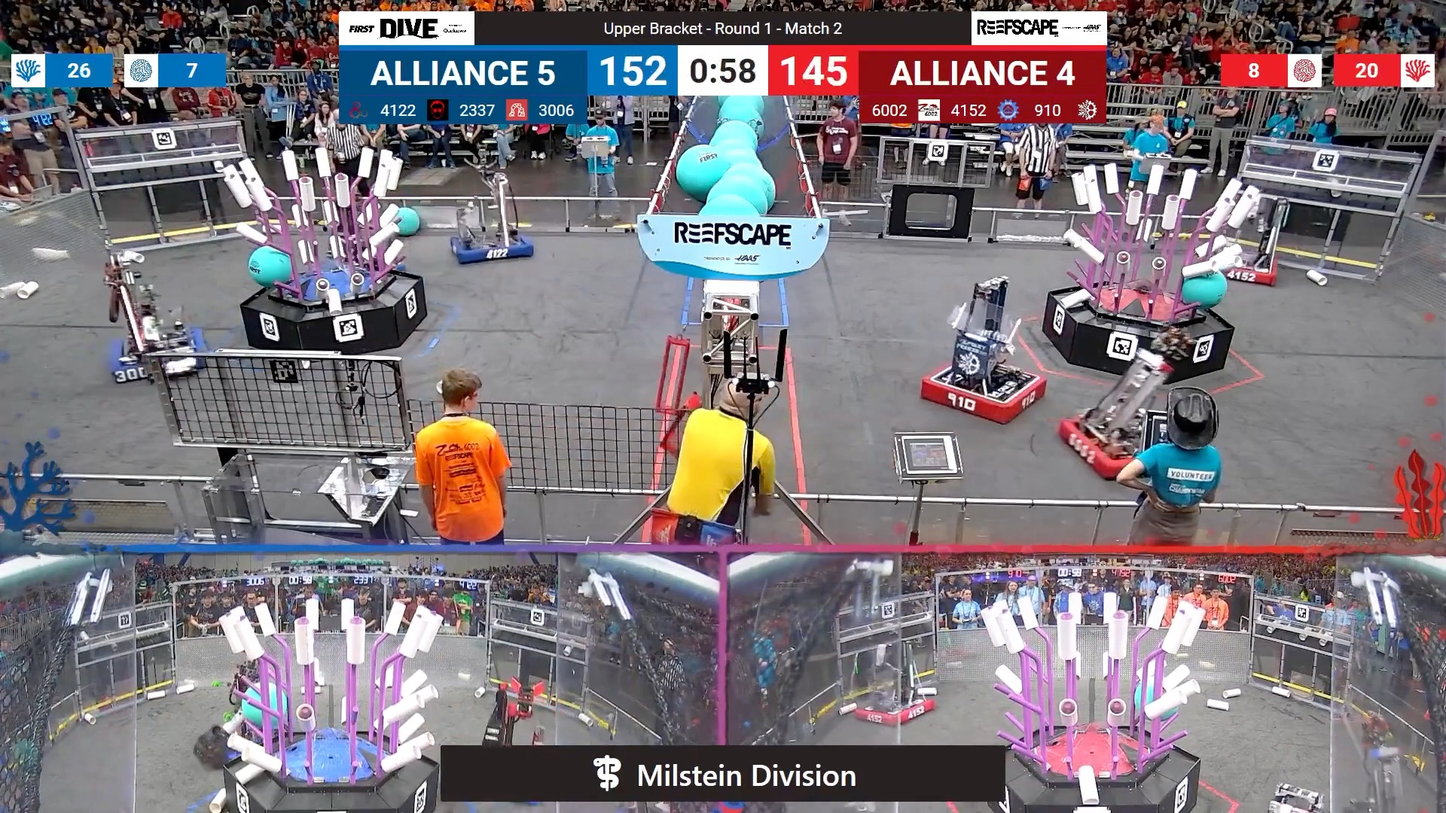bumpers: (1051, 413, 1182, 481), (916, 363, 1052, 426), (104, 325, 212, 383), (442, 230, 538, 267), (849, 691, 939, 728), (1205, 254, 1286, 289)
